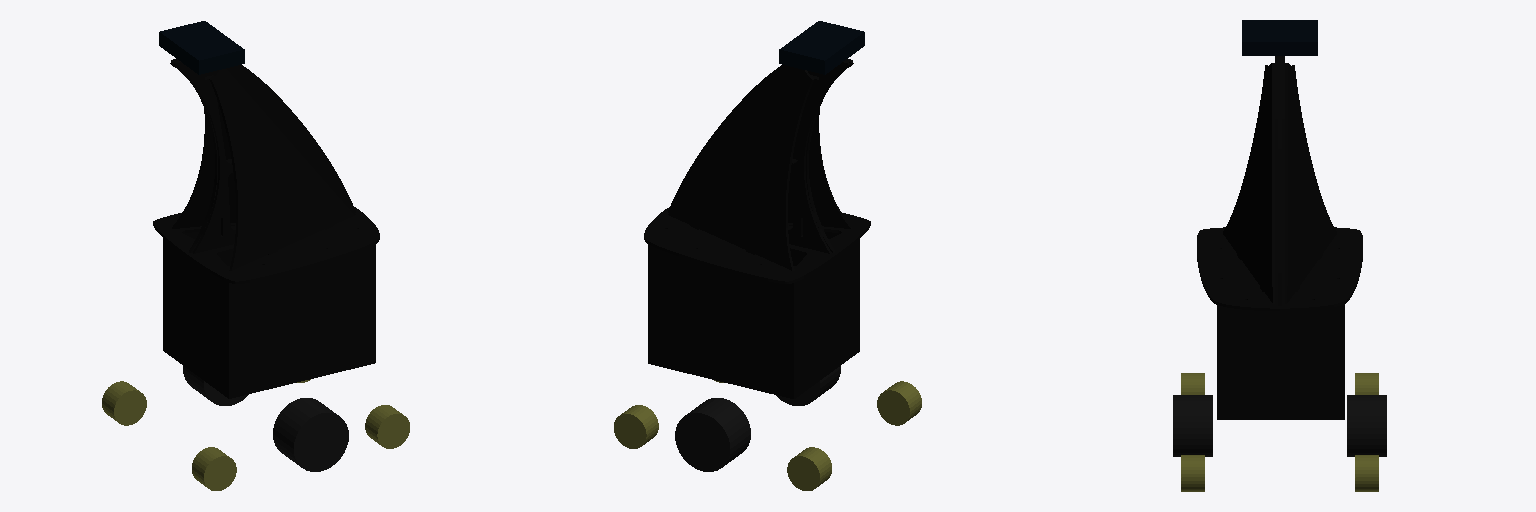
robot.urdf — akula:
<?xml version="1.0" ?>
<!-- =================================================================================== -->
<!-- |    This document was autogenerated by xacro from akula.urdf.xacro               | -->
<!-- |    EDITING THIS FILE BY HAND IS NOT RECOMMENDED                                 | -->
<!-- =================================================================================== -->
<!--  
   ======================================== 
     * Author: [email redacted] 
     * Created: 10.03.2023 
   ======================================== 
-->
<robot name="akula">
  <link name="base_footprint"/>
  <!-- Initial Link -->
  <link name="inertial_link">
    <inertial>
      <mass value="132.3898489950015"/>
      <origin xyz="0.015 0  0.0231316650320557"/>
      <inertia ixx="0.185196122711036" ixy="0" ixz="0" iyy="0.364893736238929" iyz="-0.000386720198091934" izz="0.223868521722778"/>
    </inertial>
  </link>
  <!-- base link -->
  <link name="base_link">
    <visual>
      <origin rpy="1.57 0 0" xyz="0 0 0"/>
      <geometry>
        <mesh filename="meshes/tracer_base_link_no_wheel.dae"/>
      </geometry>
      <material name="base">
        <color rgba="0.2 0.2 0.2 1"/>
      </material>
    </visual>
    <collision>
      <origin rpy="1.57 0 0" xyz="0 0 0"/>
      <geometry>
        <mesh filename="meshes/tracer_base_link_no_wheel.dae"/>
      </geometry>
    </collision>
  </link>
  <!-- ************************************************** -->
  <!-- FL castor joint link -->
  <link name="fl_castor_link">
    <visual>
      <geometry>
        <mesh filename="meshes/castor_joint.dae"/>
      </geometry>
      <material name="fl_castor_link">
        <color rgba="0.8 0.2 0.2 1"/>
      </material>
    </visual>
    <inertial>
      <mass value="1"/>
      <origin xyz="0 0 0"/>
      <inertia ixx="0.7171" ixy="0" ixz="0" iyy="0.1361" iyz="0" izz="0.7171"/>
    </inertial>
  </link>
  <!-- FR castor joint link -->
  <link name="fr_castor_link">
    <visual>
      <geometry>
        <mesh filename="meshes/castor_joint.dae"/>
      </geometry>
      <material name="fr_castor_link">
        <color rgba="0.8 0.2 0.2 1"/>
      </material>
    </visual>
    <inertial>
      <mass value="1"/>
      <origin xyz="0 0 0"/>
      <inertia ixx="0.7171" ixy="0" ixz="0" iyy="0.1361" iyz="0" izz="0.7171"/>
    </inertial>
  </link>
  <!-- BL castor joint link -->
  <link name="bl_castor_link">
    <visual>
      <geometry>
        <mesh filename="meshes/castor_joint.dae"/>
      </geometry>
      <material name="bl_castor_link">
        <color rgba="0.8 0.2 0.2 1"/>
      </material>
    </visual>
    <inertial>
      <mass value="1"/>
      <origin xyz="0 0 0"/>
      <inertia ixx="0.7171" ixy="0" ixz="0" iyy="0.1361" iyz="0" izz="0.7171"/>
    </inertial>
  </link>
  <!-- BR castor joint link -->
  <link name="br_castor_link">
    <visual>
      <geometry>
        <mesh filename="meshes/castor_joint.dae"/>
      </geometry>
      <material name="br_castor_link">
        <color rgba="0.8 0.2 0.2 1"/>
      </material>
    </visual>
    <inertial>
      <mass value="1"/>
      <origin xyz="0 0 0"/>
      <inertia ixx="0.7171" ixy="0" ixz="0" iyy="0.1361" iyz="0" izz="0.7171"/>
    </inertial>
  </link>
  <!-- ************************************************** -->
  <!-- FL castor wheel -->
  <link name="fl_castor_wheel">
    <visual>
      <geometry>
        <cylinder length="0.04653" radius="0.036"/>
      </geometry>
      <material name="fl_castor_wheel">
        <color rgba="0.4 0.4 0.2 1"/>
      </material>
    </visual>
    <collision>
      <geometry>
        <cylinder length="0.04653" radius="0.036"/>
      </geometry>
    </collision>
    <inertial>
      <mass value="1"/>
      <origin xyz="0 0 0"/>
      <inertia ixx="0.000504" ixy="0" ixz="0" iyy="0.000504" iyz="0" izz="0.000648"/>
    </inertial>
  </link>
  <!-- FR castor wheel -->
  <link name="fr_castor_wheel">
    <visual>
      <geometry>
        <cylinder length="0.04653" radius="0.036"/>
      </geometry>
      <material name="fr_castor_wheel">
        <color rgba="0.4 0.4 0.2 1"/>
      </material>
    </visual>
    <collision>
      <geometry>
        <cylinder length="0.04653" radius="0.036"/>
      </geometry>
    </collision>
    <inertial>
      <mass value="1"/>
      <origin xyz="0 0 0"/>
      <inertia ixx="0.000504" ixy="0" ixz="0" iyy="0.000504" iyz="0" izz="0.000648"/>
    </inertial>
  </link>
  <!-- BL castor wheel -->
  <link name="bl_castor_wheel">
    <visual>
      <geometry>
        <cylinder length="0.04653" radius="0.036"/>
      </geometry>
      <material name="bl_castor_wheel">
        <color rgba="0.4 0.4 0.2 1"/>
      </material>
    </visual>
    <collision>
      <geometry>
        <cylinder length="0.04653" radius="0.036"/>
      </geometry>
    </collision>
    <inertial>
      <mass value="1"/>
      <origin xyz="0 0 0"/>
      <inertia ixx="0.000504" ixy="0" ixz="0" iyy="0.000504" iyz="0" izz="0.000648"/>
    </inertial>
  </link>
  <!-- BR castor wheel -->
  <link name="br_castor_wheel">
    <visual>
      <geometry>
        <cylinder length="0.04653" radius="0.036"/>
      </geometry>
      <material name="br_castor_wheel">
        <color rgba="0.4 0.4 0.2 1"/>
      </material>
    </visual>
    <collision>
      <geometry>
        <cylinder length="0.04653" radius="0.036"/>
      </geometry>
    </collision>
    <inertial>
      <mass value="1"/>
      <origin xyz="0 0 0"/>
      <inertia ixx="0.000504" ixy="0" ixz="0" iyy="0.000504" iyz="0" izz="0.000648"/>
    </inertial>
  </link>
  <!-- ************************************************** -->
  <link name="L_wheel">
    <visual>
      <geometry>
        <cylinder length="0.0787019" radius="0.0605"/>
      </geometry>
      <material name="L_wheel">
        <color rgba="0.1 0.1 0.1 1"/>
      </material>
      <origin rpy="1.57 0 0" xyz="0 0 0"/>
    </visual>
    <collision>
      <geometry>
        <cylinder length="0.0787019" radius="0.0605"/>
      </geometry>
      <origin rpy="1.57 0 0" xyz="0 0 0"/>
    </collision>
    <inertial>
      <mass value="6"/>
      <origin rpy="1.57 0 0" xyz="0 0 0"/>
      <inertia ixx="0.00859" ixy="0" ixz="0" iyy="0.01098" iyz="0" izz="0.00859"/>
    </inertial>
  </link>
  <link name="R_wheel">
    <visual>
      <geometry>
        <cylinder length="0.0787019" radius="0.0605"/>
      </geometry>
      <material name="R_wheel">
        <color rgba="0.1 0.1 0.1 1"/>
      </material>
      <origin rpy="1.57 0 0" xyz="0 0 0"/>
    </visual>
    <inertial>
      <mass value="6"/>
      <origin rpy="1.57 0 0" xyz="0 0 0"/>
      <inertia ixx="0.00859" ixy="0" ixz="0" iyy="0.01098" iyz="0" izz="0.00859"/>
    </inertial>
    <collision>
      <geometry>
        <cylinder length="0.0787019" radius="0.0605"/>
      </geometry>
      <origin rpy="1.57 0 0" xyz="0 0 0"/>
    </collision>
  </link>
  <link name="fin_link">
    <visual>
      <geometry>
        <mesh filename="meshes/fin.stl" scale="0.001 0.001 0.001"/>
      </geometry>
      <material name="fin">
        <color rgba="0.058 0.058 0.058 1"/>
      </material>
    </visual>
    <inertial>
      <mass value="1"/>
      <origin xyz="0 0 0"/>
      <inertia ixx="0.3" ixy="0" ixz="0" iyy="0.3" iyz="0" izz="0.3"/>
    </inertial>
    <collision>
      <geometry>
        <mesh filename="meshes/fin.stl" scale="0.001 0.001 0.001"/>
      </geometry>
    </collision>
  </link>
  <link name="camera_link">
    <visual>
      <geometry>
        <box size="0.10 0.15 0.03"/>
      </geometry>
      <material name="camera_material">
        <color rgba="0.034 0.064 0.09 0.99"/>
      </material>
    </visual>
    <collision>
      <geometry>
        <box size="0.10 0.15 0.03"/>
      </geometry>
    </collision>
    <inertial>
      <mass value="0.8"/>
      <origin xyz="0 0 0"/>
      <inertia ixx="0.0015266666666666666" ixy="0" ixz="0" iyy="0.0006933333333333335" iyz="0" izz="0.0021666666666666666"/>
    </inertial>
  </link>
  <link name="camera_optical_link">
    <inertial>
      <mass value="1e-6"/>
      <origin xyz="0 0 0"/>
      <inertia ixx="1e-9" ixy="0" ixz="0" iyy="1e-9" iyz="0" izz="1e-9"/>
    </inertial>
  </link>
  <joint name="base_footprint_joint" type="fixed">
    <parent link="base_footprint"/>
    <child link="base_link"/>
    <origin rpy="0 0 0" xyz="0 0 0"/>
  </joint>
  <joint name="base_joint" type="fixed">
    <origin rpy="0 0 0" xyz="0 0 0"/>
    <parent link="base_link"/>
    <child link="inertial_link"/>
  </joint>
  <joint name="fin_joint" type="fixed">
    <origin rpy="0 0 -1.5708" xyz="0 0 -0.15"/>
    <parent link="base_link"/>
    <child link="fin_link"/>
  </joint>
  <!-- ************************************************** -->
  <!-- FL castor -->
  <joint name="fl_castor_joint" type="continuous">
    <origin rpy="-1.57 0 0" xyz="0.18955 0.17 -0.0375886"/>
    <!-- 0.0380886 -->
    <parent link="base_link"/>
    <child link="fl_castor_link"/>
    <axis xyz="0 1 0"/>
  </joint>
  <!-- FR castor -->
  <joint name="fr_castor_joint" type="continuous">
    <origin rpy="-1.57 0 0" xyz="0.18955 -0.17 -0.0375886"/>
    <parent link="base_link"/>
    <child link="fr_castor_link"/>
    <axis xyz="0 1 0"/>
  </joint>
  <!-- BL castor -->
  <joint name="bl_castor_joint" type="continuous">
    <origin rpy="-1.57 0 0" xyz="-0.18955 0.17 -0.0375886"/>
    <parent link="base_link"/>
    <child link="bl_castor_link"/>
    <axis xyz="0 1 0"/>
  </joint>
  <!-- BR castor -->
  <joint name="br_castor_joint" type="continuous">
    <origin rpy="-1.57 0 0" xyz="-0.18955 -0.17 -0.0375886"/>
    <parent link="base_link"/>
    <child link="br_castor_link"/>
    <axis xyz="0 1 0"/>
  </joint>
  <!-- ************************************************** -->
  <!-- FL Castor wheel -->
  <joint name="fl_castor_wheel_joint" type="continuous">
    <origin rpy="0 0 0" xyz="-0.0218084 0.067 0"/>
    <parent link="fl_castor_link"/>
    <child link="fl_castor_wheel"/>
    <axis xyz="0 0 1"/>
    <dynamics damping="0.2"/>
  </joint>
  <!-- FR Castor wheel -->
  <joint name="fr_castor_wheel_joint" type="continuous">
    <origin rpy="0 0 0" xyz="-0.0218084 0.067 0"/>
    <parent link="fr_castor_link"/>
    <child link="fr_castor_wheel"/>
    <axis xyz="0 0 1"/>
    <dynamics damping="0.2"/>
  </joint>
  <!-- BL Castor wheel -->
  <joint name="bl_castor_wheel_joint" type="continuous">
    <origin rpy="0 0 0" xyz="-0.0218084 0.067 0"/>
    <parent link="bl_castor_link"/>
    <child link="bl_castor_wheel"/>
    <axis xyz="0 0 1"/>
    <dynamics damping="0.2"/>
  </joint>
  <!-- BR Castor wheel -->
  <joint name="br_castor_wheel_joint" type="continuous">
    <origin rpy="0 0 0" xyz="-0.0218084 0.067 0"/>
    <parent link="br_castor_link"/>
    <child link="br_castor_wheel"/>
    <axis xyz="0 0 1"/>
    <dynamics damping="0.2"/>
  </joint>
  <!-- ************************************************** -->
  <!-- Left wheel -->
  <joint name="L_wheel_joint" type="continuous">
    <origin rpy="0 0 0" xyz="0 0.17 -0.082"/>
    <parent link="base_link"/>
    <child link="L_wheel"/>
    <axis xyz="0 1 0"/>
    <dynamics damping="0.2"/>
  </joint>
  <!-- Right wheel -->
  <joint name="R_wheel_joint" type="continuous">
    <origin rpy="0 0 0" xyz="0 -0.17 -0.082"/>
    <parent link="base_link"/>
    <child link="R_wheel"/>
    <axis xyz="0 1 0"/>
    <dynamics damping="0.2"/>
  </joint>

  <joint name="camera_joint" type="fixed">
    <parent link="fin_link"/>
    <child link="camera_link"/>
    <origin rpy="0 0 1.5708" xyz="0 -0.14 0.84"/>
  </joint>
  <joint name="camera_optical_joint" type="fixed">
    <parent link="camera_link"/>
    <child link="camera_optical_link"/>
    <origin rpy="0 0 0" xyz="0 0 0"/>
  </joint>
  
</robot>

--- Render facts (derived) ---
The picture shows the robot from 3 angles, left to right: view 1: azimuth 30°, elevation 25°; view 2: azimuth 150°, elevation 25°; view 3: azimuth 270°, elevation 25°; orthographic projection.
Model akula with 16 links and 15 joints (10 continuous, 5 fixed), rooted at base_footprint, posed every joint at zero.
Links seen in each view (by area): view 1: fin_link, R_wheel, camera_link, fr_castor_wheel, br_castor_wheel, bl_castor_wheel, L_wheel; view 2: fin_link, L_wheel, camera_link, fl_castor_wheel, bl_castor_wheel, br_castor_wheel, R_wheel; view 3: fin_link, camera_link, L_wheel, R_wheel, fl_castor_wheel, fr_castor_wheel, bl_castor_wheel, br_castor_wheel.
Link boxes in pixels (box(x1,y1,x2,y2)): fin_link: box(153, 59, 379, 398); R_wheel: box(273, 398, 348, 471); camera_link: box(159, 21, 244, 74); fr_castor_wheel: box(365, 405, 409, 448); br_castor_wheel: box(192, 447, 236, 490); bl_castor_wheel: box(102, 381, 146, 425); L_wheel: box(183, 366, 248, 405); fin_link: box(644, 59, 870, 398); L_wheel: box(675, 398, 750, 471); camera_link: box(779, 21, 864, 74); fl_castor_wheel: box(614, 405, 658, 448); bl_castor_wheel: box(787, 447, 831, 490); br_castor_wheel: box(877, 381, 921, 425); R_wheel: box(776, 366, 840, 405); fin_link: box(1197, 56, 1362, 419); camera_link: box(1242, 20, 1317, 55); L_wheel: box(1347, 395, 1386, 456); R_wheel: box(1173, 395, 1212, 456); fl_castor_wheel: box(1355, 455, 1378, 491); fr_castor_wheel: box(1181, 455, 1204, 491); bl_castor_wheel: box(1355, 373, 1378, 394); br_castor_wheel: box(1181, 373, 1204, 394).
Size in the robot's own frame: 0.4544 by 0.4188 by 0.8475 metres.
Meshes: 3 distinct files referenced, 1 mesh visuals loaded (1 binary STL); not drawn: 5 (reference not matched to a file when rendering).
